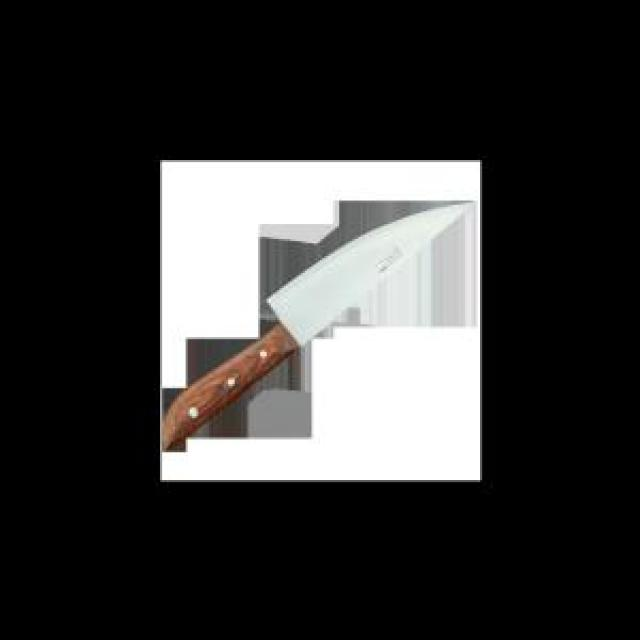knife: (166, 203, 478, 449)
